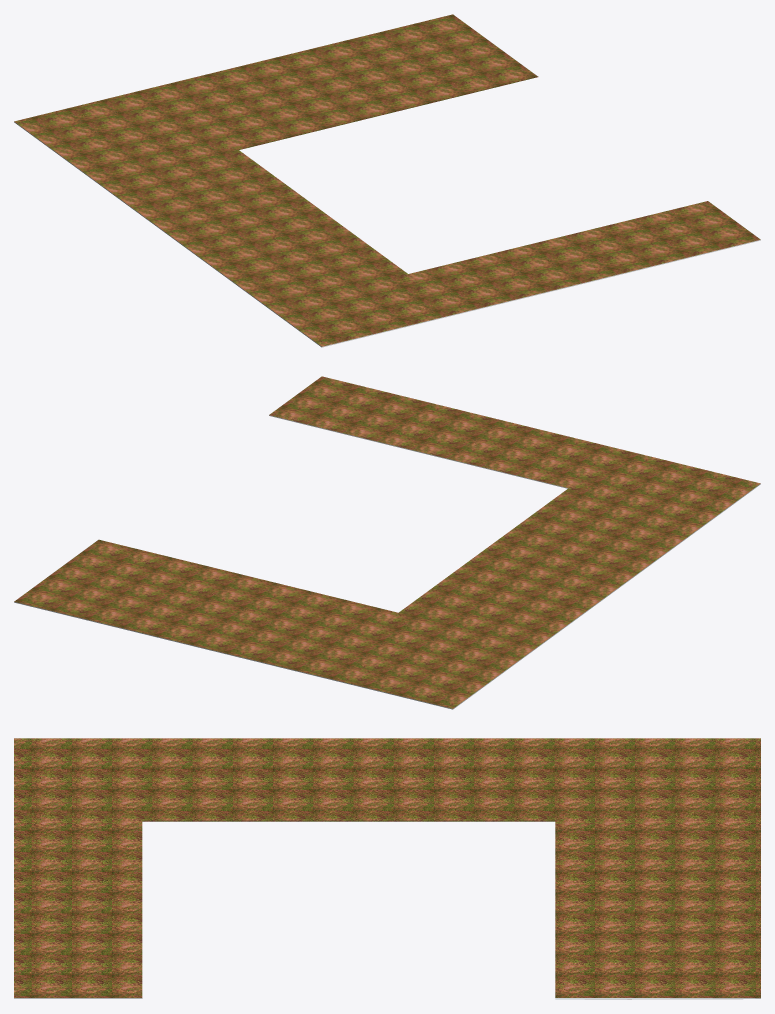
The model's file is ground.glb.
The picture shows the model from 3 angles, top to bottom: view 1: azimuth 30°, elevation 25°; view 2: azimuth 150°, elevation 25°; view 3: azimuth 270°, elevation 25°; orthographic projection. The views are drawn at different scales.
Visible parts, largest first — view 1: ground; view 2: ground; view 3: ground.
Boxes of the visible parts, left/top/right/bottom form: ground: left=14, top=14, right=760, bottom=347; ground: left=14, top=376, right=760, bottom=709; ground: left=14, top=738, right=760, bottom=999.
Size of the model in its own units: 3793 by 6.74 by 4597.
4 materials, 1 textured.
